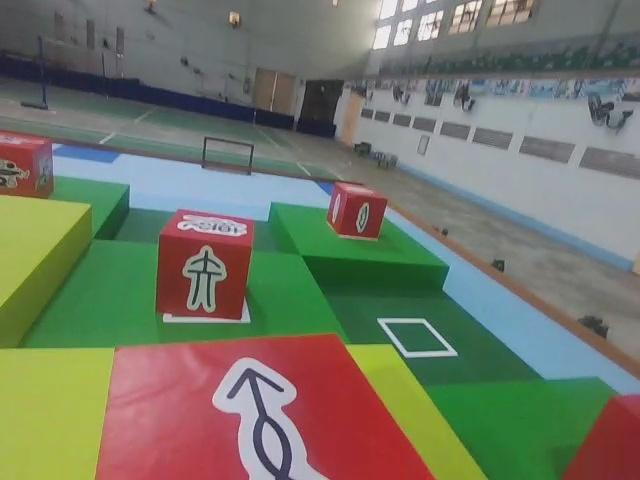R1: (0, 129, 56, 201)
R2 Fake: (151, 209, 255, 323)
R2 Real: (91, 328, 438, 480), (327, 179, 388, 243)
